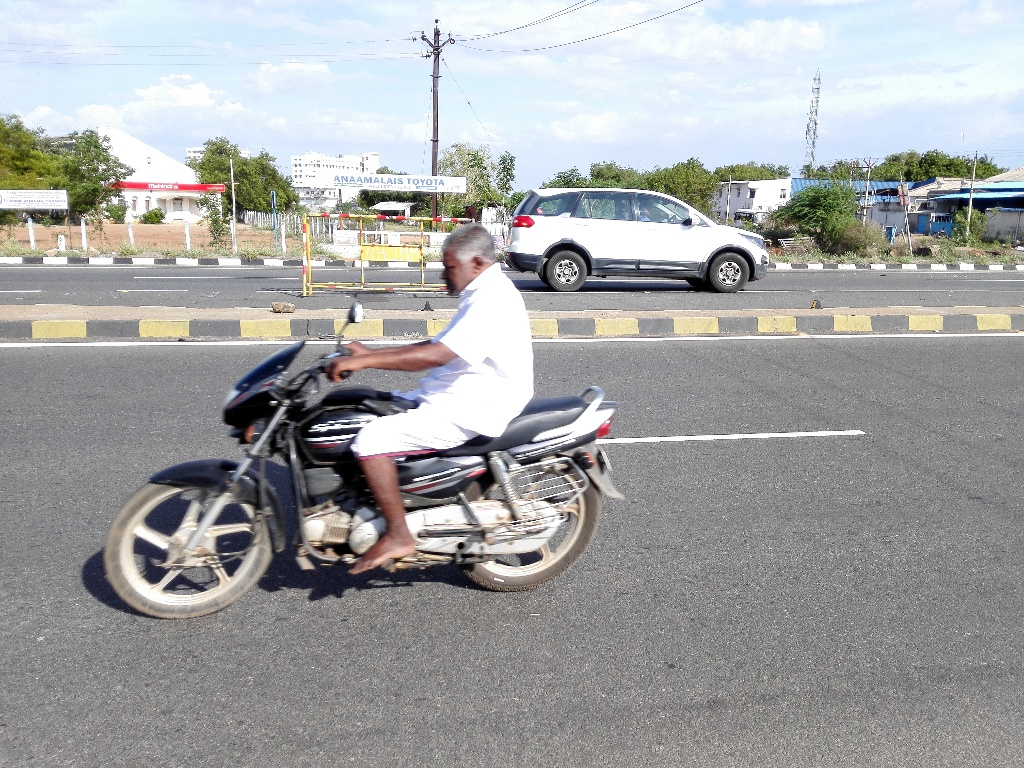biker: (90, 168, 641, 631)
nohelmet: (433, 207, 510, 307)
